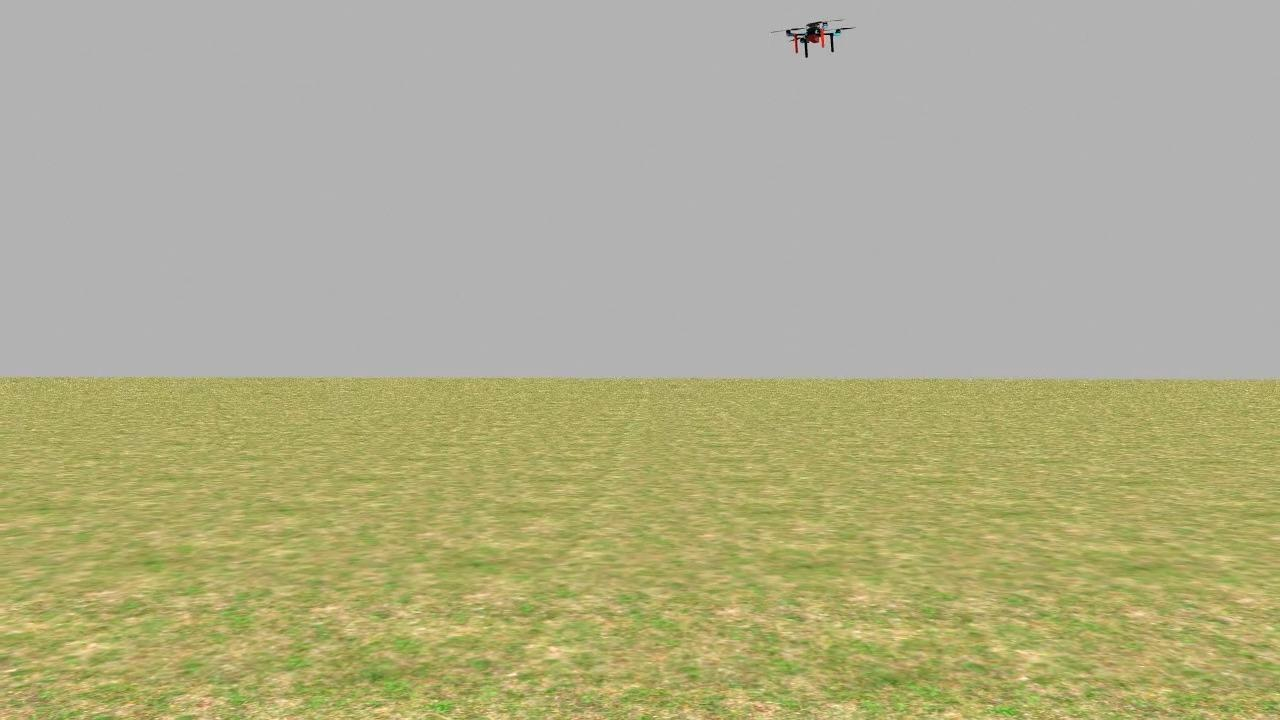UAV: (775, 10, 851, 69)
